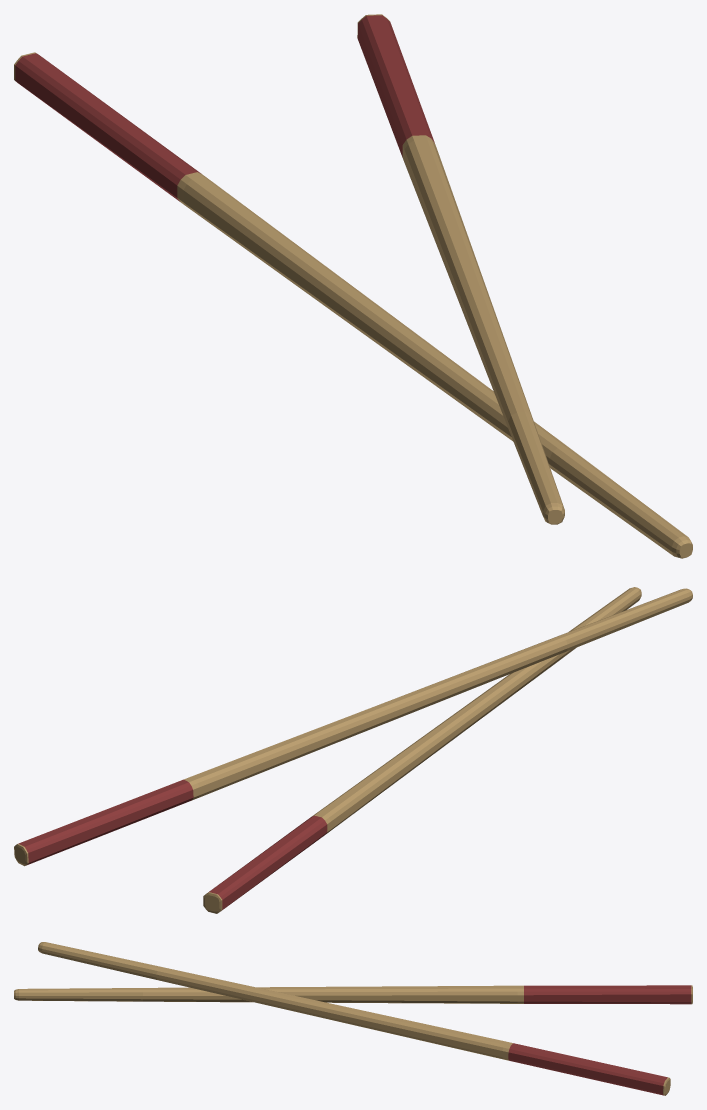
File: chopstick-pair.glb
3 views of the same model, one above another, from view 1: azimuth 30°, elevation 25°; view 2: azimuth 150°, elevation 25°; view 3: azimuth 270°, elevation 25° (orthographic). The views are drawn at different scales.
Visible parts, largest first — view 1: Cylinder, Cylinder.001; view 2: Cylinder.001, Cylinder; view 3: Cylinder.001, Cylinder.
Part boxes in pixels (<box>): Cylinder: <box>14,52,692,558</box>; Cylinder.001: <box>357,14,564,524</box>; Cylinder.001: <box>14,588,692,866</box>; Cylinder: <box>203,587,641,913</box>; Cylinder.001: <box>38,942,670,1095</box>; Cylinder: <box>14,985,692,1004</box>.
Size of the model in its own units: 2.33 by 0.4367 by 5.95.
